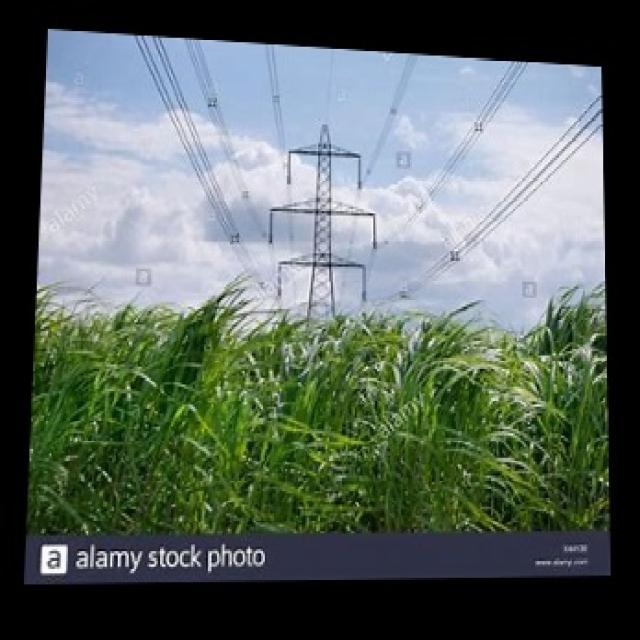utility poles: (245, 166, 415, 488)
